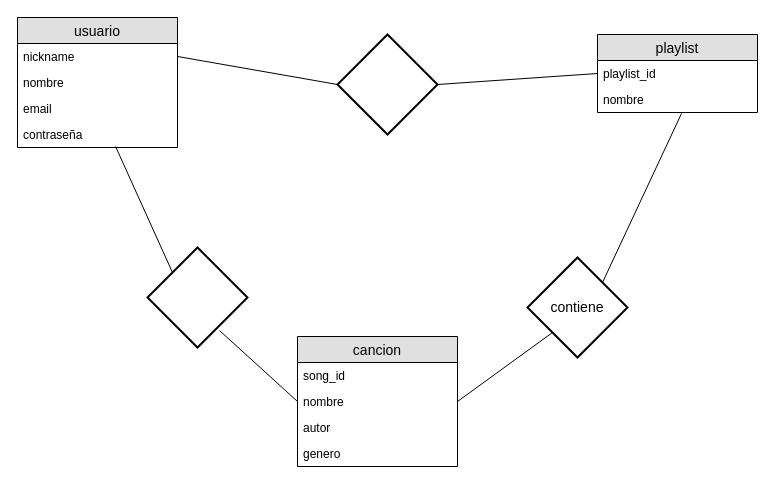
Image size: 775x487. Some labels were removed from this diagram. Each missing label, with the centre of its shape:
le gusta: the point at 197,297
tiene: the point at 387,84
